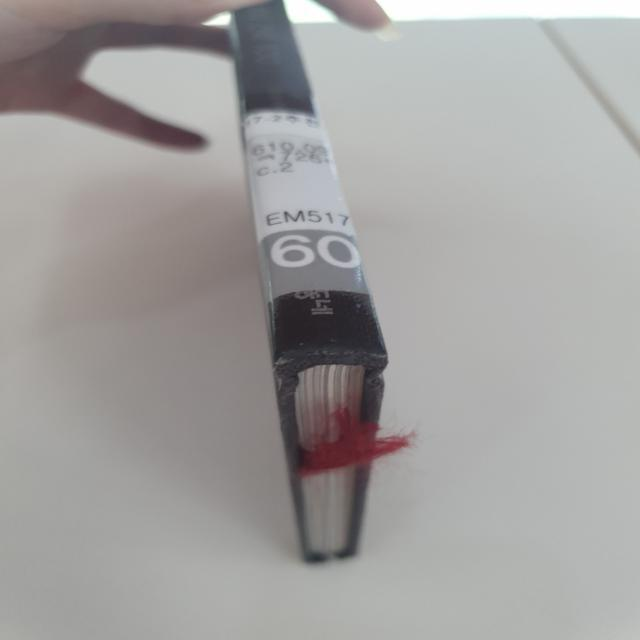Wornout: (266, 338, 390, 401)
